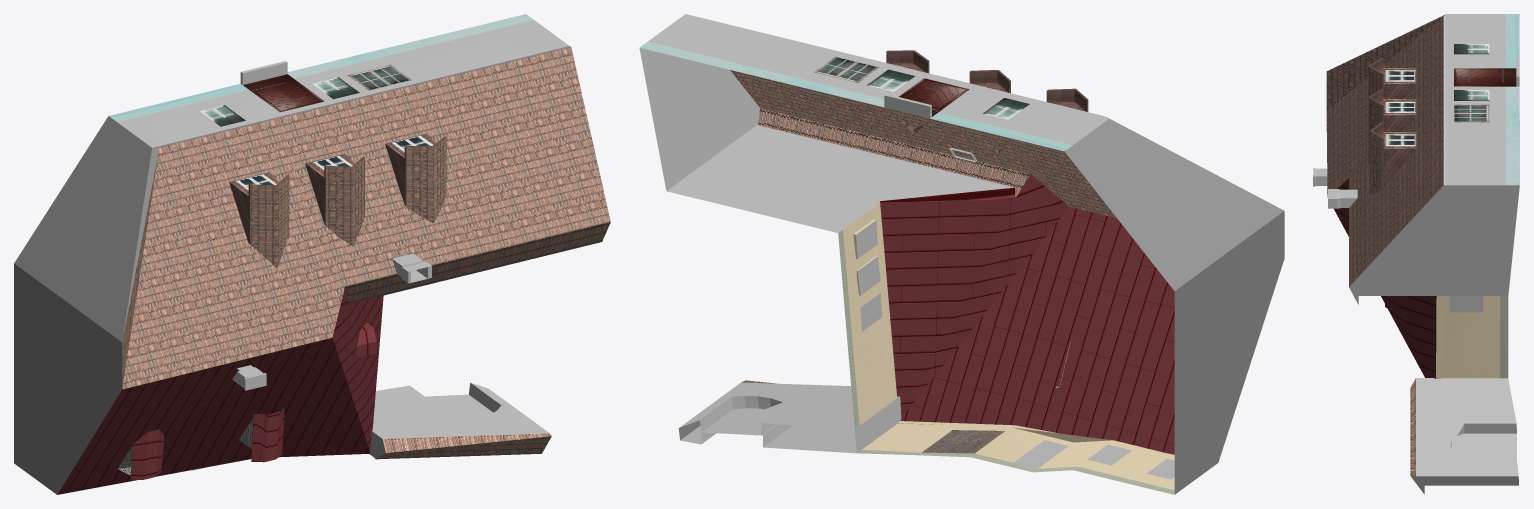
The model's file is Rutu_2-origo.obj.
3 renders of one model, left to right at view 1: azimuth 30°, elevation 25°; view 2: azimuth 150°, elevation 25°; view 3: azimuth 270°, elevation 25°, orthographic. The views are drawn at different scales.
Visible parts, largest first — view 1: Rutu_2; view 2: Rutu_2; view 3: Rutu_2.
Boxes of the visible parts, box(x1,y1,x2,y2) form: Rutu_2: box(14, 14, 610, 494); Rutu_2: box(639, 14, 1284, 494); Rutu_2: box(1313, 14, 1519, 494).
Size of the model in its own units: 23.06 by 17 by 9.47.
